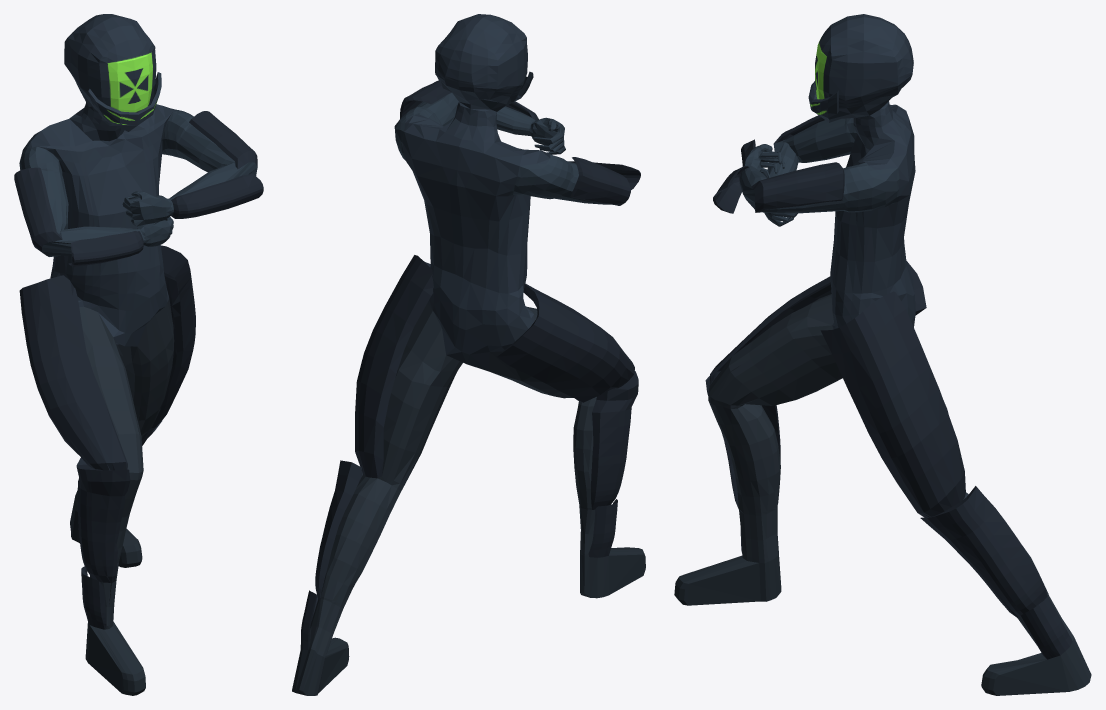
Rendered from Bastion_WR_000025.obj.
3 views of the same model, side by side, from view 1: azimuth 30°, elevation 25°; view 2: azimuth 150°, elevation 25°; view 3: azimuth 270°, elevation 25° (orthographic). The views are drawn at different scales.
Parts seen in each view (by area): view 1: Cube.002; view 2: Cube.002; view 3: Cube.002.
Boxes of the visible parts, bbox=[...] form: Cube.002: bbox=[14, 14, 263, 695]; Cube.002: bbox=[292, 14, 645, 695]; Cube.002: bbox=[674, 14, 1091, 695].
Bounding box in the file's own units: 1.31 × 3.59 × 2.15.
